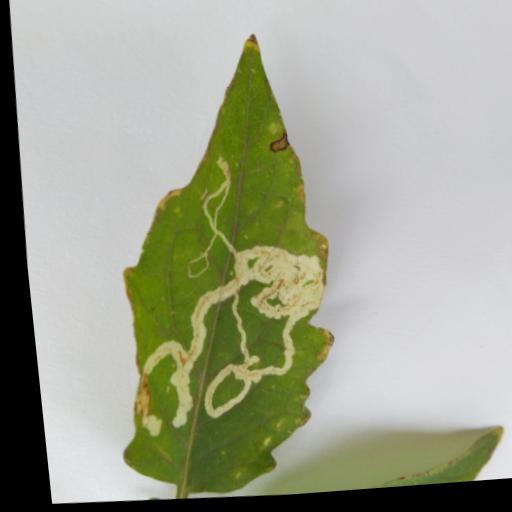Leaf_Miner: (72, 22, 354, 508)
